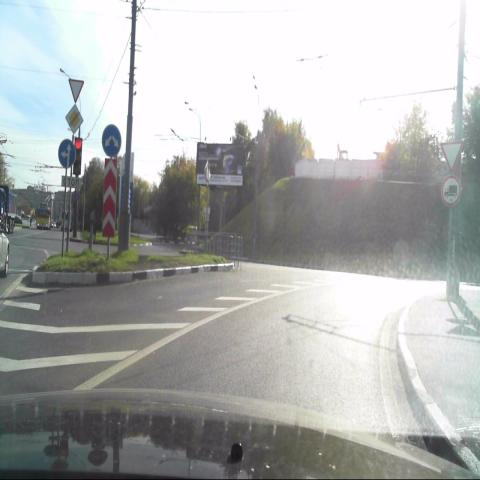2_2: (64, 104, 84, 134)
3_4_1: (440, 174, 462, 207)
4_1_5: (57, 136, 77, 170)
